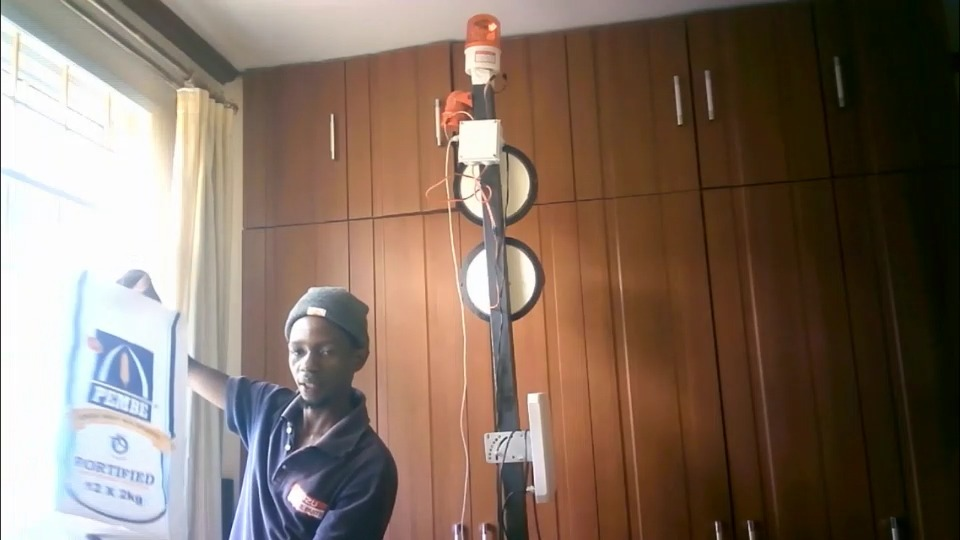wheat_flour_blue_label: (47, 264, 195, 526)
